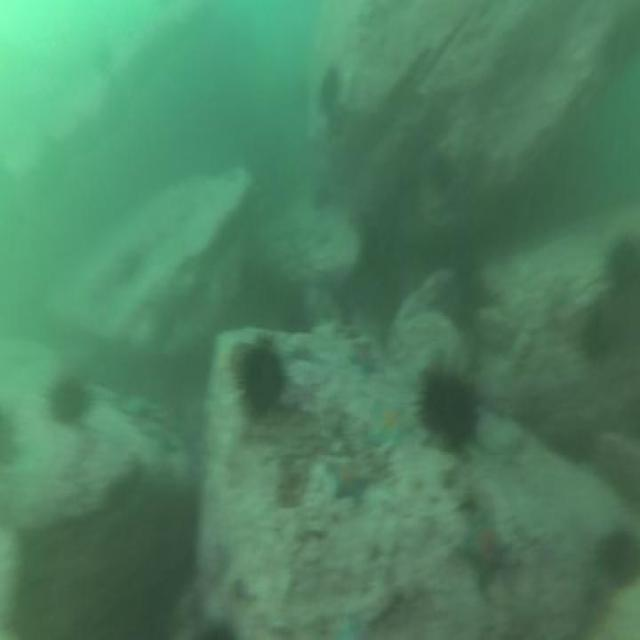echinus: (413, 354, 482, 463), (233, 332, 288, 430), (595, 520, 640, 596), (44, 370, 97, 428), (603, 225, 640, 300), (316, 60, 346, 115), (427, 145, 457, 196), (0, 400, 22, 469)
starfish: (454, 502, 524, 596), (322, 455, 378, 511), (371, 390, 416, 450), (344, 332, 381, 379)
